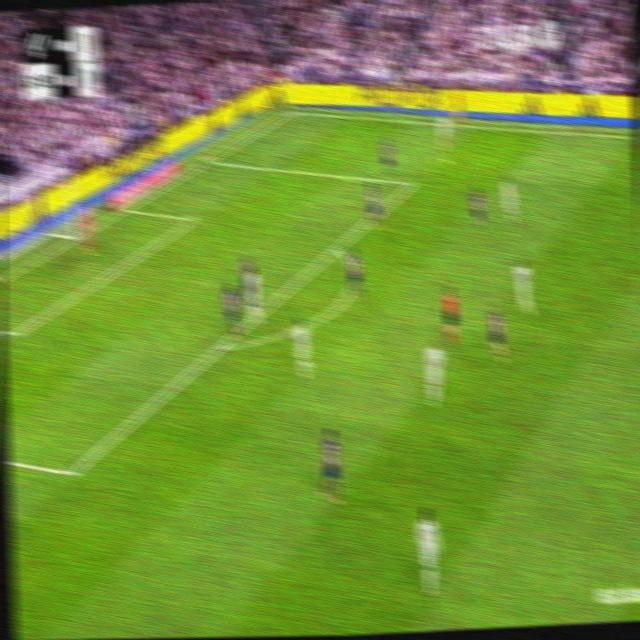bigarea_bottom_inner: (63, 457, 80, 487)
bigarea_top_inner: (405, 175, 415, 191)
bigarea_top_outter: (201, 152, 213, 167)
bottom_arc_area_intersection: (214, 336, 229, 355)
smallarea_bottom_inner: (9, 322, 24, 343)
smallarea_top_inner: (187, 211, 198, 225)
top_arc_area_intersection: (329, 237, 343, 258)
